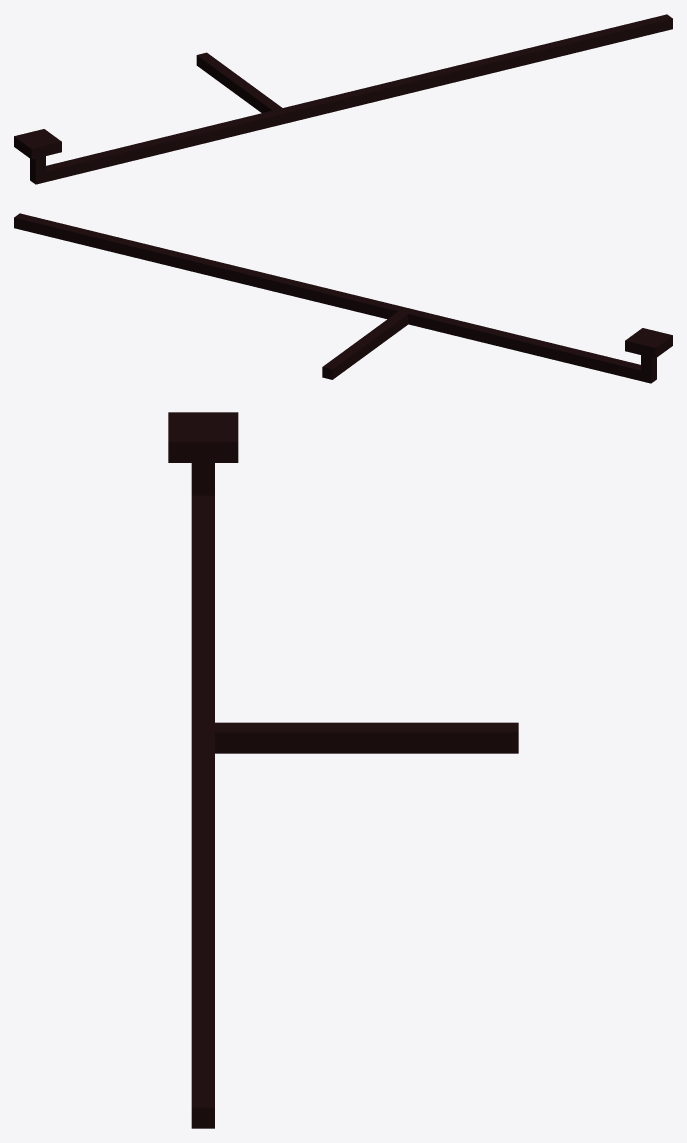
File: Tuyau 4.obj
3 views of the same model, one above another, from view 1: azimuth 30°, elevation 25°; view 2: azimuth 150°, elevation 25°; view 3: azimuth 270°, elevation 25° (orthographic). The views are drawn at different scales.
Parts seen in each view (by area): view 1: Tuyau 4; view 2: Tuyau 4; view 3: Tuyau 4.
Part boxes in pixels (x1,y1,x2,y2): Tuyau 4: (14, 14, 672, 184); Tuyau 4: (14, 213, 672, 383); Tuyau 4: (168, 412, 518, 1128).
Bounding box in the file's own units: 64 × 4 × 15.
1 material, 1 textured.
